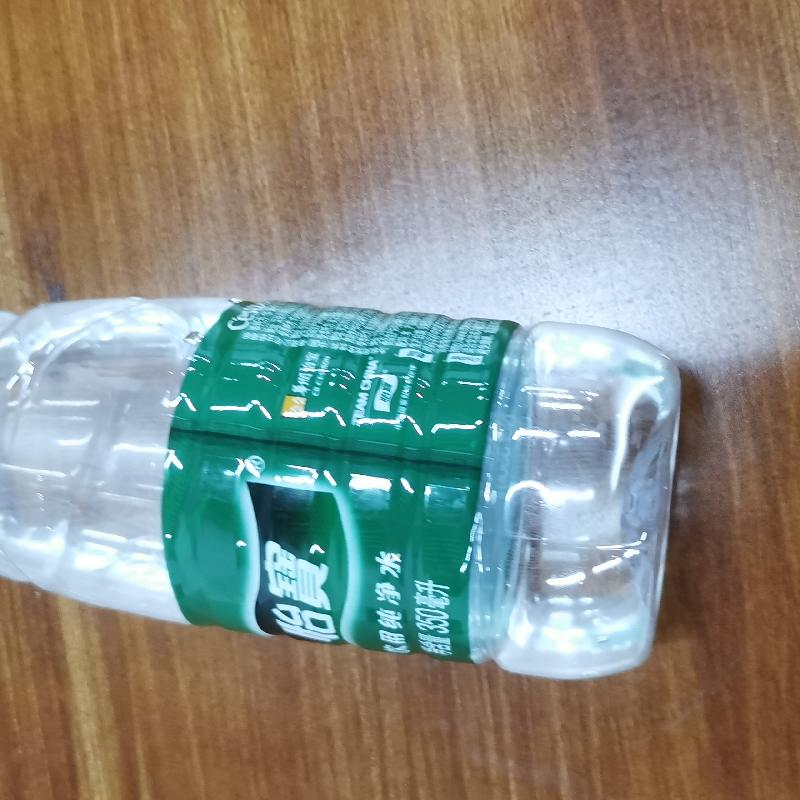bottles: (2, 285, 683, 680)
